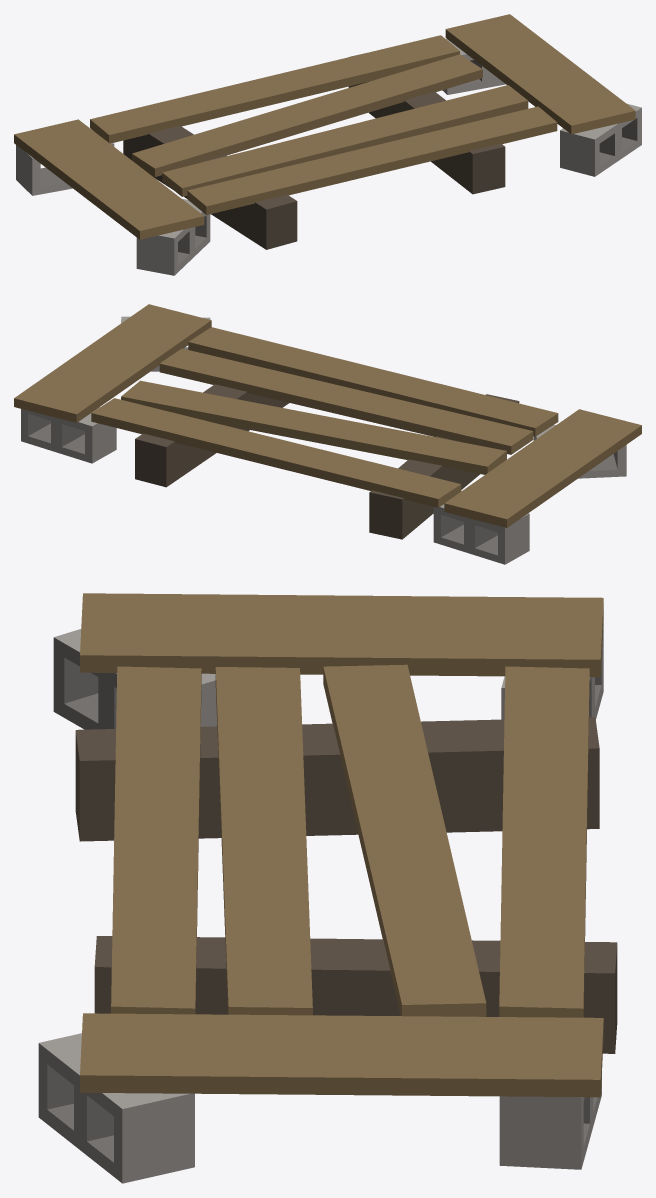
The model's file is AI_Prop_Walkway_02.fbx.
The picture shows the model from 3 angles, top to bottom: view 1: azimuth 30°, elevation 25°; view 2: azimuth 150°, elevation 25°; view 3: azimuth 270°, elevation 25°; orthographic projection. The views are drawn at different scales.
Visible parts, largest first — view 1: AI_Prop_Walkway_02; view 2: AI_Prop_Walkway_02; view 3: AI_Prop_Walkway_02.
Part boxes in pixels (x1,y1,x2,y2): AI_Prop_Walkway_02: (14,14,641,275); AI_Prop_Walkway_02: (14,304,641,564); AI_Prop_Walkway_02: (38,593,617,1183).
Bounding box in the file's own units: 4.95 × 0.4433 × 2.43.
